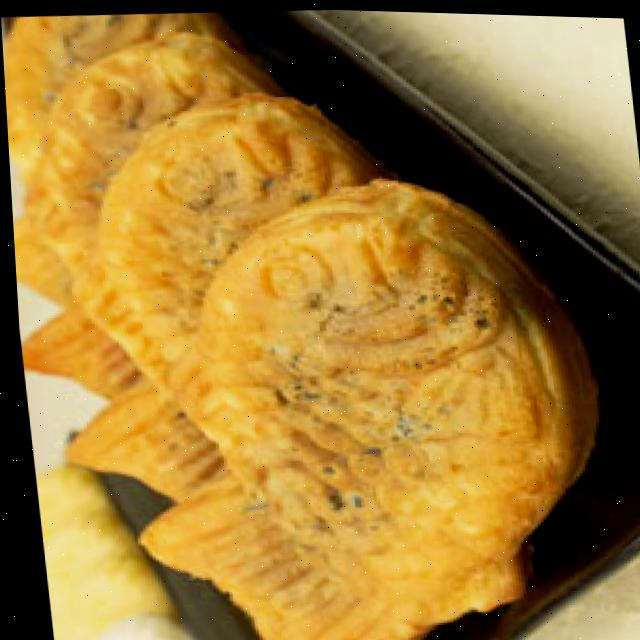熟制海鲜: (0, 0, 616, 640)
